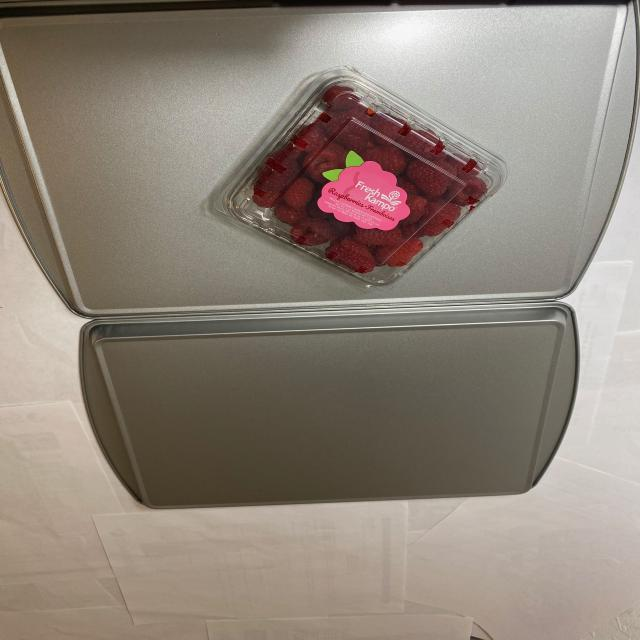raspberries: (251, 88, 489, 270)
